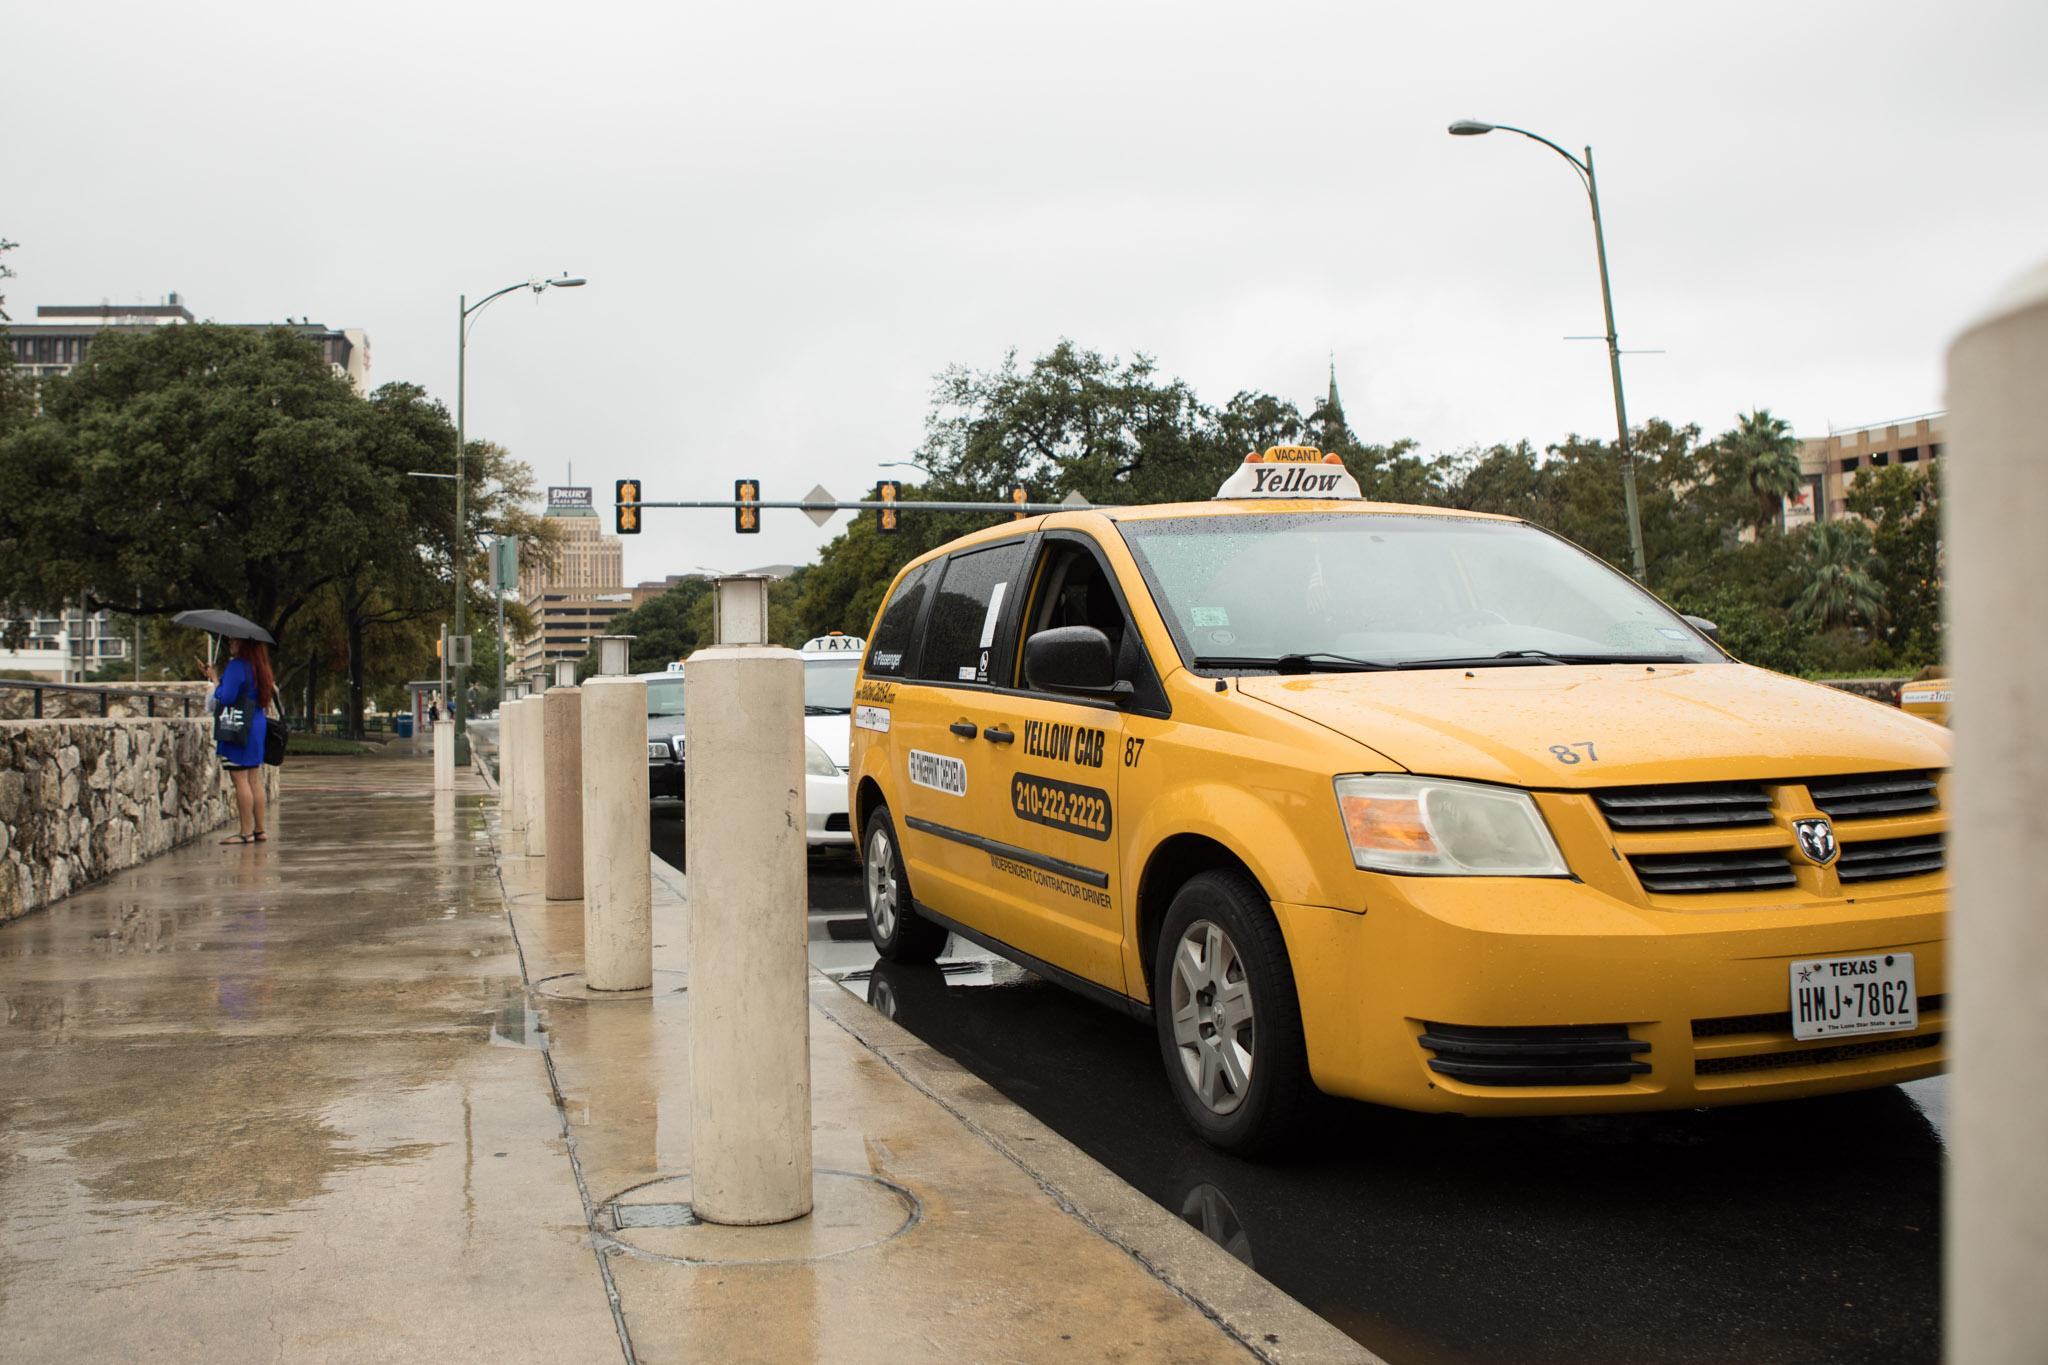taxi: (866, 551, 2048, 1248)
